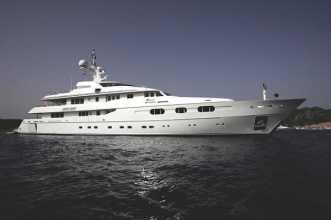yacht: (11, 58, 319, 139)
